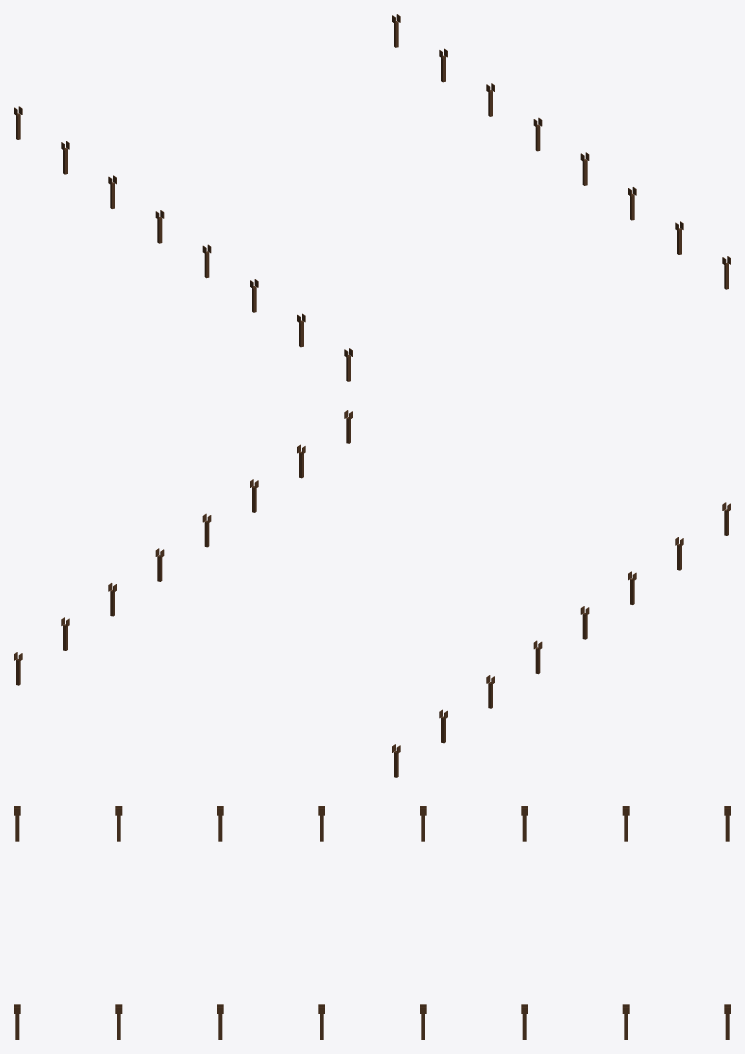
The model's file is LanternPosts_Timber.fbx.
The picture shows the model from 3 angles, top to bottom: view 1: azimuth 30°, elevation 25°; view 2: azimuth 150°, elevation 25°; view 3: azimuth 270°, elevation 25°; orthographic projection. The views are drawn at different scales.
Parts seen in each view (by area): view 1: LPost-55.5_8.001; view 2: LPost-55.5_8.001; view 3: LPost-55.5_8.001.
Part boxes in pixels (bbox=[...]): LPost-55.5_8.001: bbox=[14, 14, 730, 381]; LPost-55.5_8.001: bbox=[14, 410, 730, 777]; LPost-55.5_8.001: bbox=[14, 806, 730, 1039].
Bounding box in the file's own units: 11260 × 870 × 16960.
